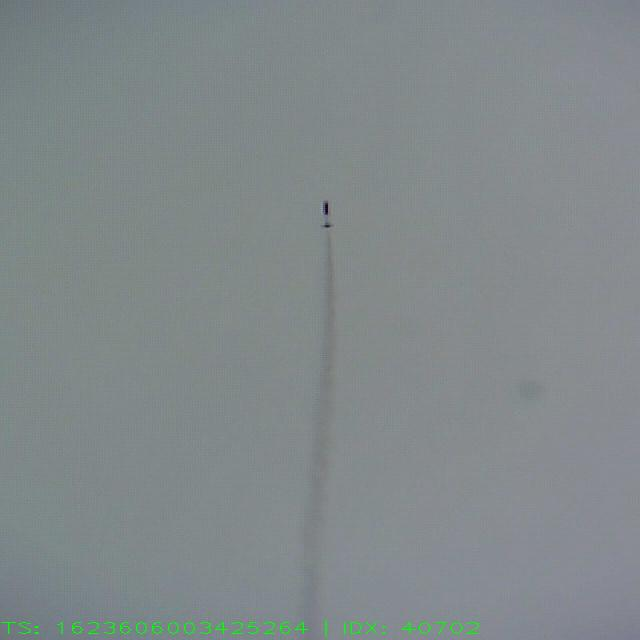Rocket: (321, 200, 335, 228)
